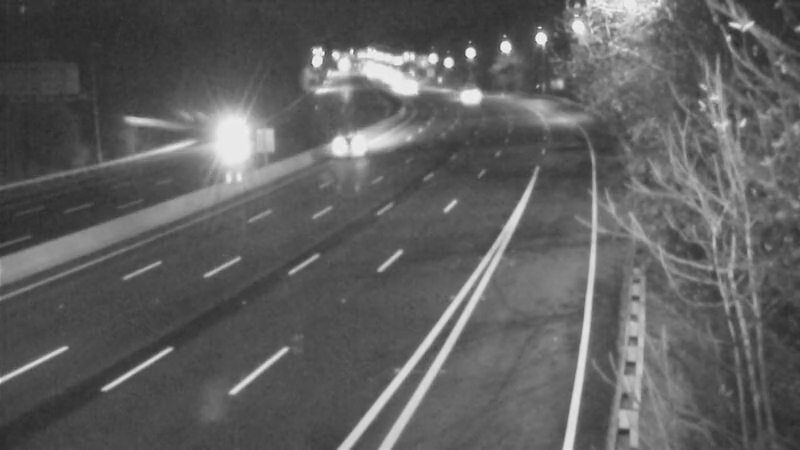vehicle: (442, 71, 492, 121), (329, 120, 379, 170), (213, 111, 263, 161)
